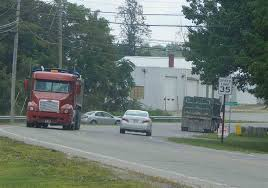speedLimit35: (218, 75, 234, 97)
